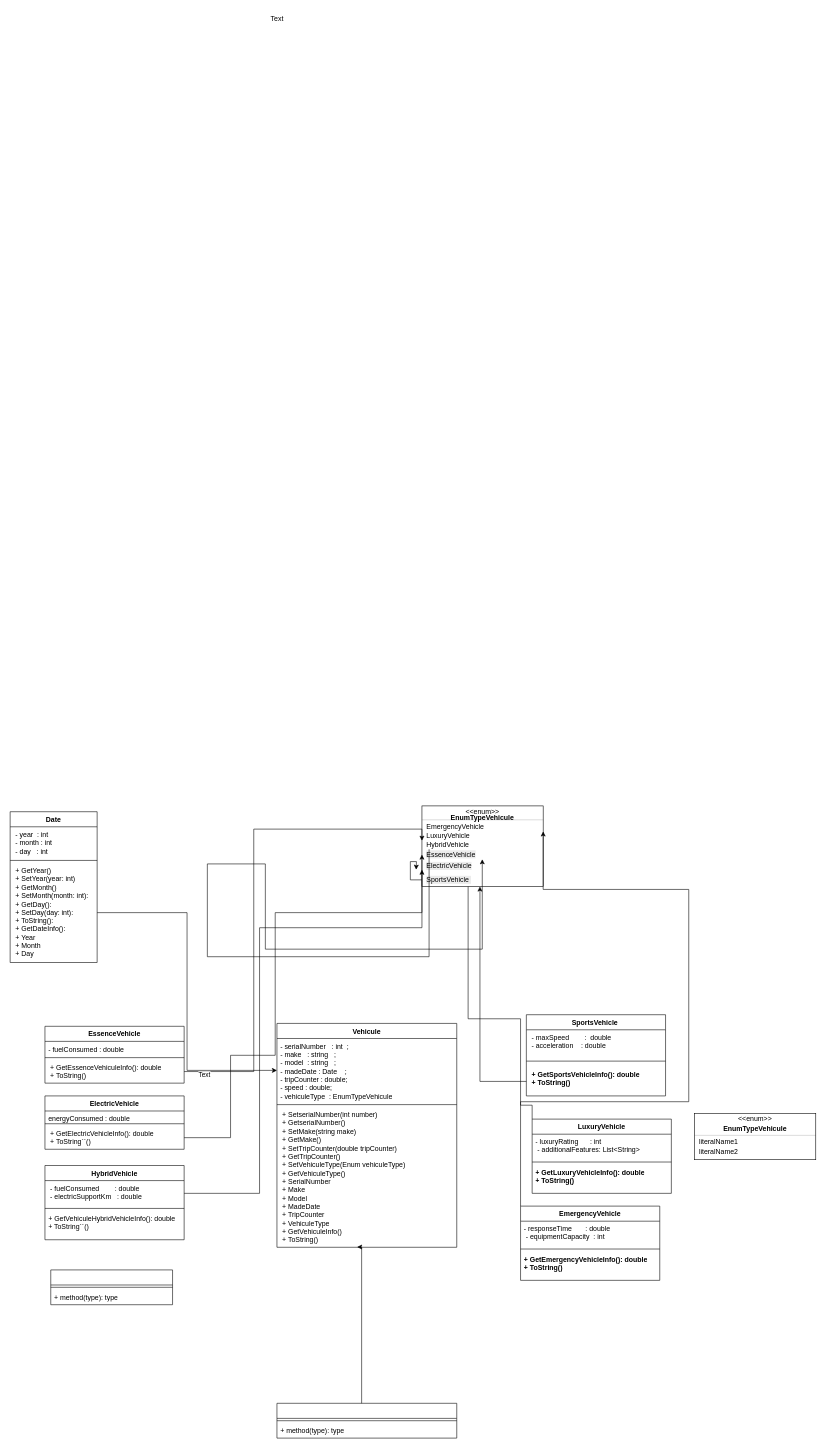
Some shapes in this 826 by 1449 pixel diagram are drawn without their labels. The shapes that lost their labels are listed below. From the top down, each one's box as (x1, y1, x2, y2) in pixels, then its label:
(50, 1269, 173, 1305): Fleemanger
(276, 1403, 457, 1438): Utilisateur
